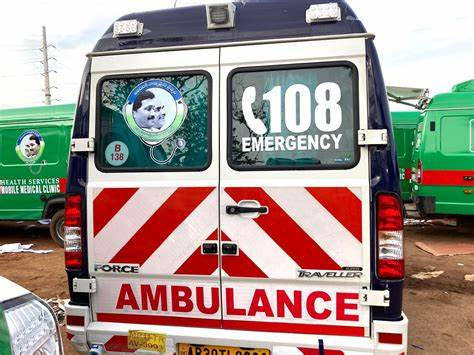ambulance: (60, 1, 418, 351)
